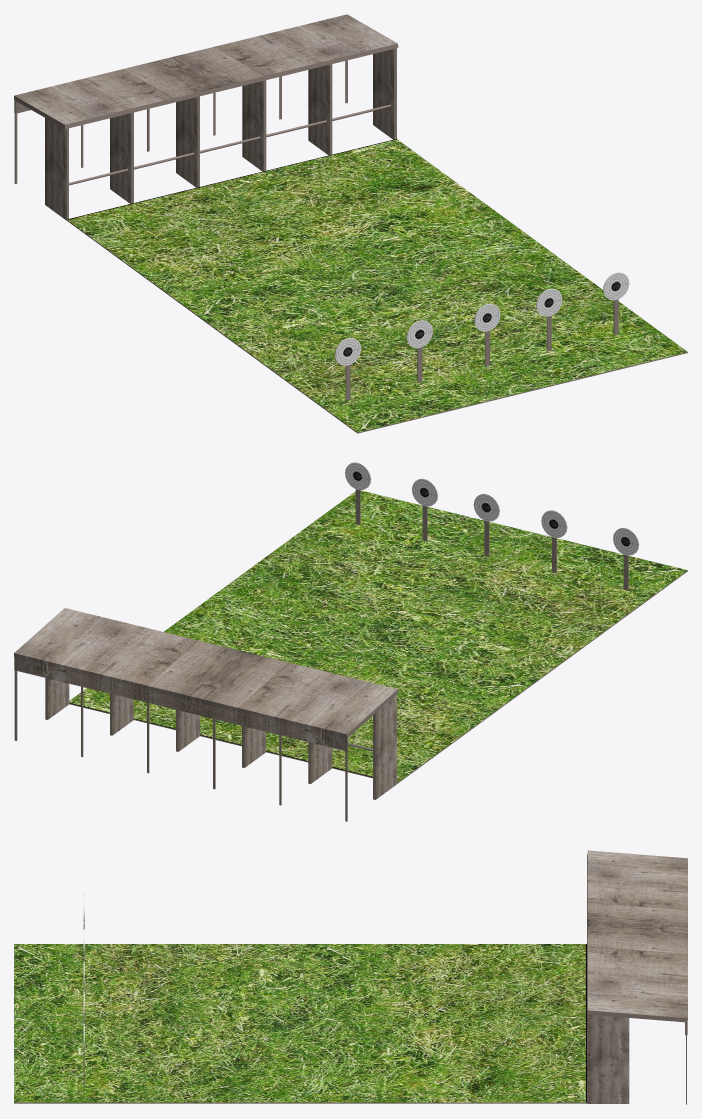
File: Shooting Range 1.FBX
3 renders of one model, top to bottom at view 1: azimuth 30°, elevation 25°; view 2: azimuth 150°, elevation 25°; view 3: azimuth 270°, elevation 25°, orthographic.
Visible parts, largest first — view 1: Box015; view 2: Box015; view 3: Box015.
Part boxes in pixels (left/top/right/bottom): Box015: left=14, top=14, right=687, bottom=433; Box015: left=14, top=462, right=687, bottom=821; Box015: left=14, top=850, right=687, bottom=1104.
Size of the model in its own units: 304 by 83.54 by 541.
